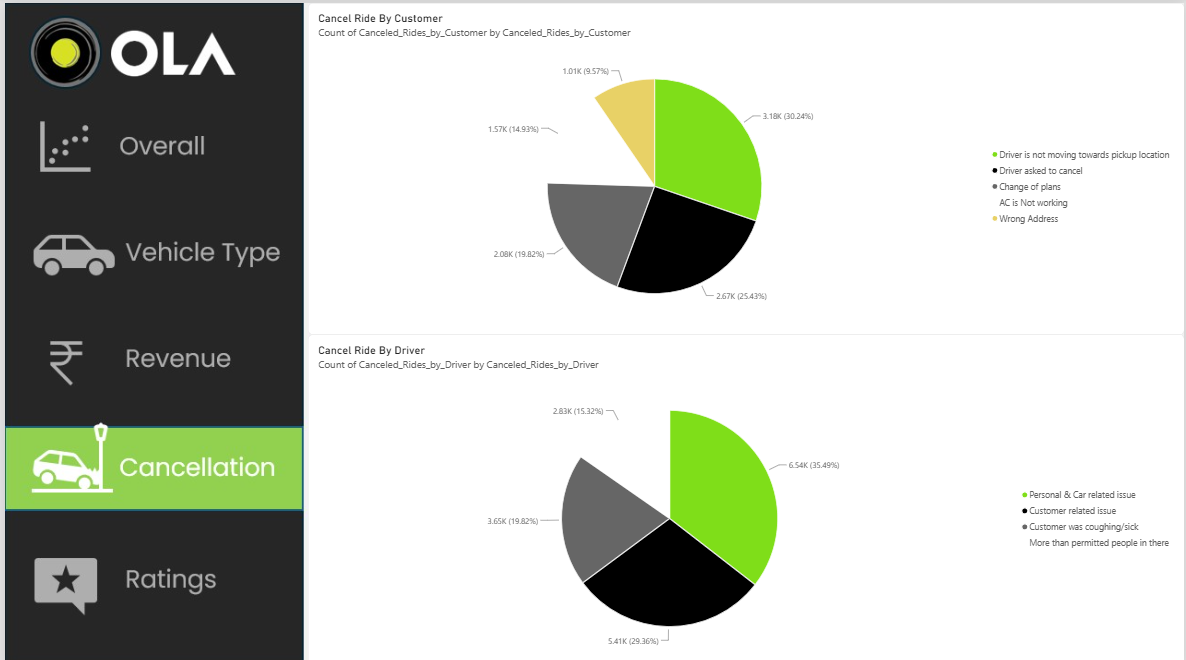

This screenshot's page, from the dashboard's own definition file:
{"tool":"powerbi","page":{"name":"Cancellation","canvas":[1920,1080],"ordinal":3},"visuals":[{"type":"pieChart","title":"Cancel Ride By Customer","fields":{"Category":["July.Canceled_Rides_by_Customer"],"Y":["CountNonNull(July.Canceled_Rides_by_Customer)"]},"box":[1159.4,0,760.3,541.9],"z":0},{"type":"pieChart","title":"Cancel Ride By Driver","fields":{"Category":["July.Canceled_Rides_by_Driver"],"Y":["CountNonNull(July.Canceled_Rides_by_Driver)"]},"box":[1159.6,539.2,760.3,541.9],"z":1000}]}

Visuals, with their boxes on the page's 1920x1080 design canvas (x1, y1, x2, y2). These are canvas units, not pixel positions in the 1186x660 screenshot, which may show the page scaled, cropped or inside an application window:
"Cancel Ride By Customer" pieChart: (1159,0,1920,542)
"Cancel Ride By Driver" pieChart: (1160,539,1920,1081)
